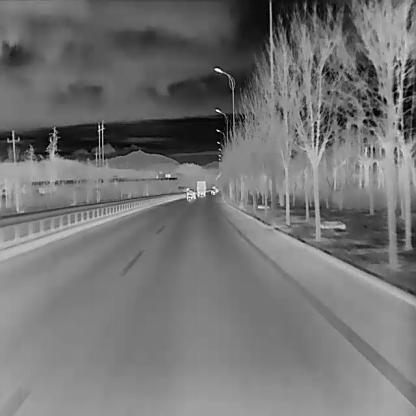car: (197, 180, 206, 196), (186, 188, 196, 200), (210, 188, 214, 194)
